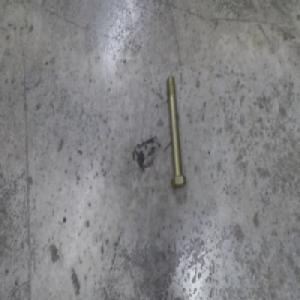Bolt: (165, 72, 187, 186)
